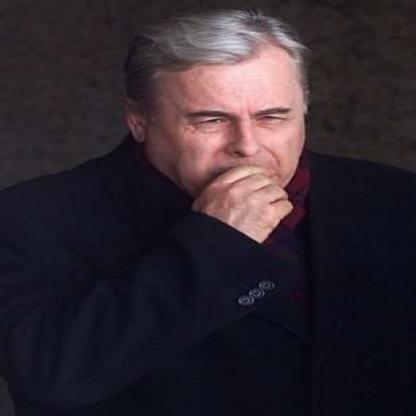face: (148, 27, 313, 208)
